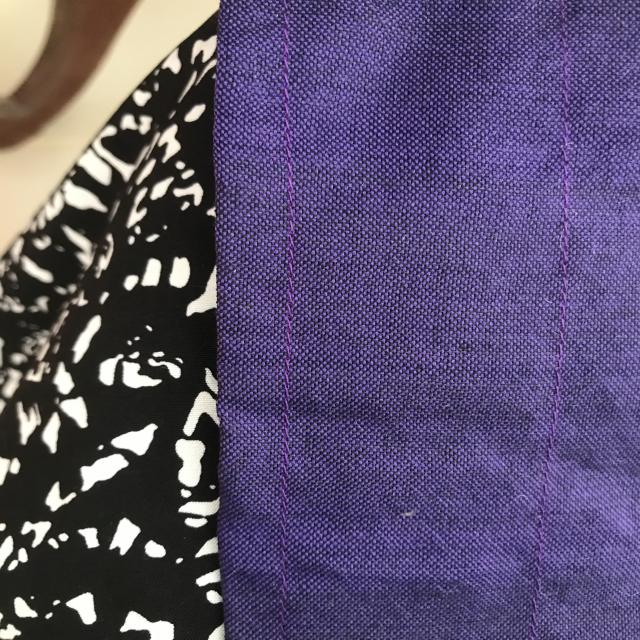good: (262, 51, 318, 195), (269, 275, 308, 412), (545, 341, 566, 472)
